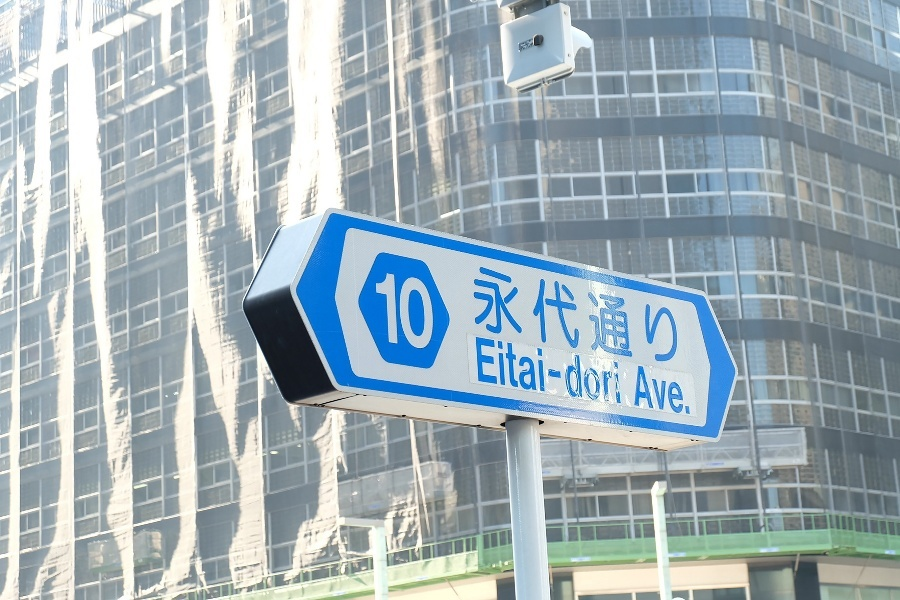text: (481, 262, 496, 370), (497, 262, 512, 370), (513, 262, 528, 370), (529, 262, 544, 370), (545, 262, 560, 370), (561, 262, 576, 370), (577, 262, 592, 370), (593, 262, 608, 370), (609, 262, 624, 370), (625, 262, 640, 370), (641, 262, 656, 370), (657, 262, 672, 370), (385, 268, 400, 352), (401, 268, 416, 352), (417, 268, 432, 352), (481, 336, 496, 405), (497, 336, 512, 405), (513, 336, 528, 405), (529, 336, 544, 405), (545, 336, 560, 405), (561, 336, 576, 405), (577, 336, 592, 405), (593, 336, 608, 405), (673, 262, 682, 370), (609, 336, 622, 405), (374, 268, 384, 352), (473, 262, 480, 370), (641, 366, 656, 416), (657, 366, 672, 416), (673, 366, 688, 416), (433, 268, 438, 352), (476, 336, 480, 405), (689, 366, 692, 416), (639, 366, 640, 416)
